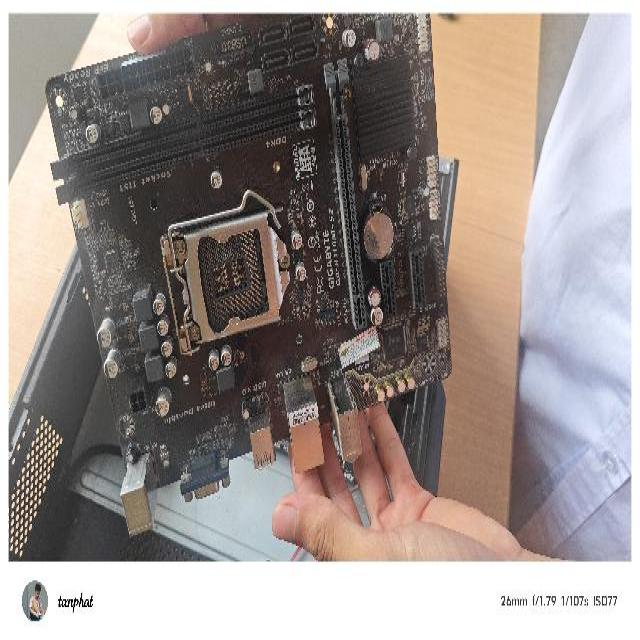Mainboard: (46, 13, 453, 439)
